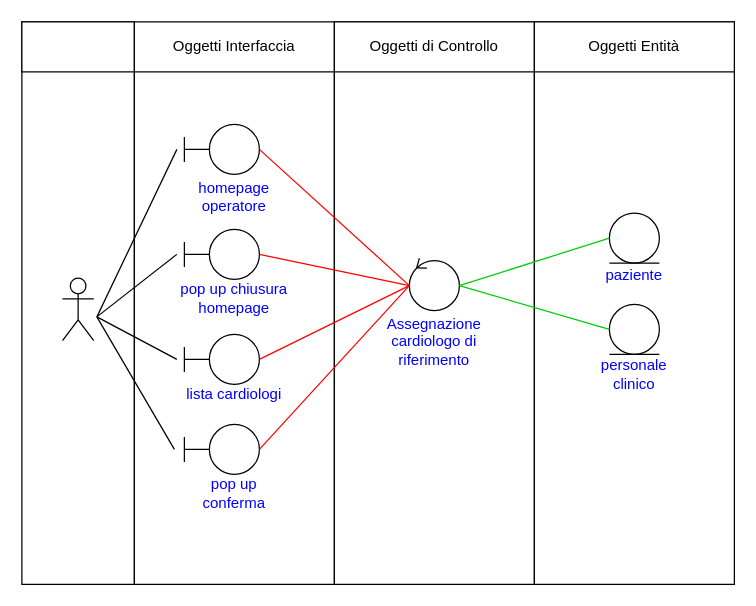
This 756x606 diagram has some shape labels left out. Each missing label, with the box of its shape:
Operatore: (61, 277, 94, 341)
Utenti: (21, 21, 134, 72)
